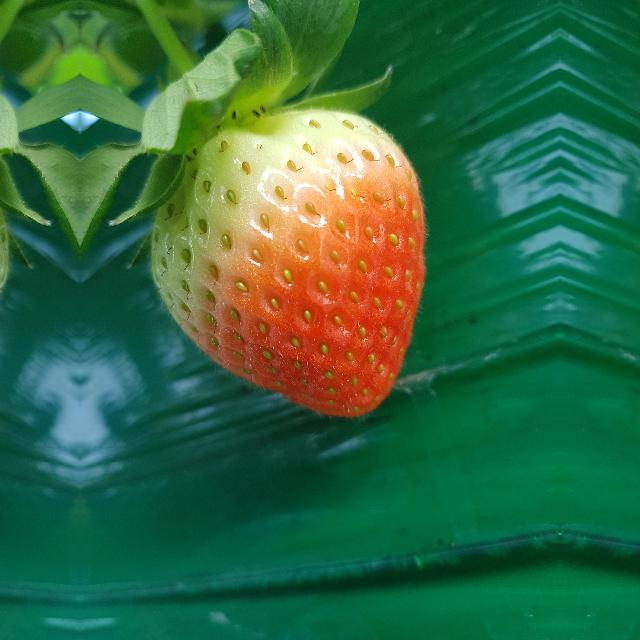Health_75: (148, 110, 428, 418)
